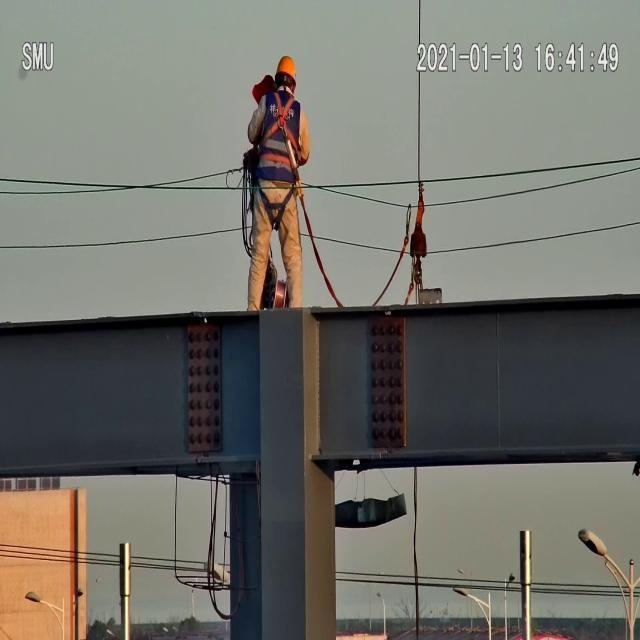Arnes_seguridad: (257, 84, 299, 181)
